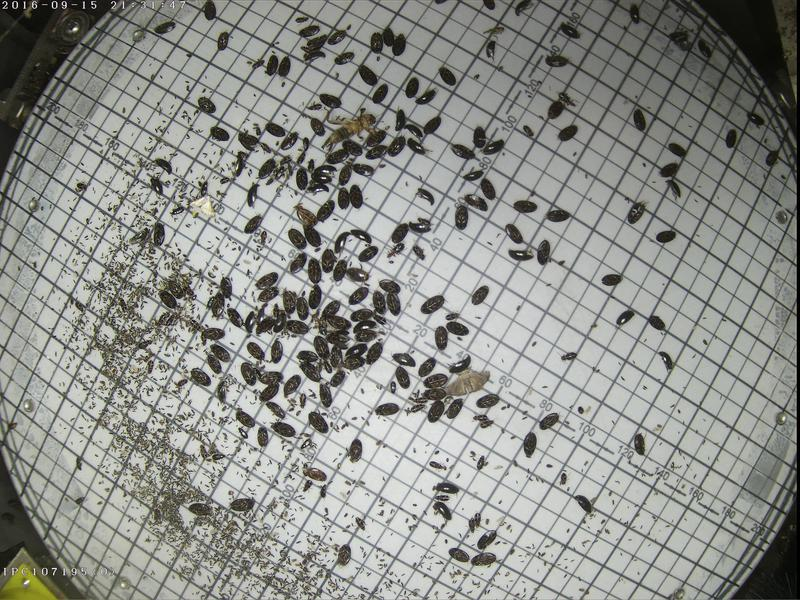Gryllotalpa orientalis: (323, 113, 379, 134)
Rice Leaf Roller: (192, 194, 212, 215)
